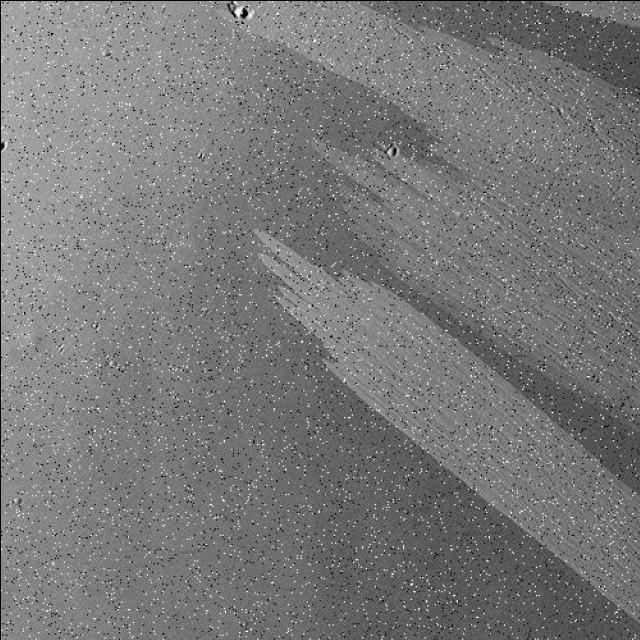crater: (215, 0, 262, 32), (371, 137, 403, 164), (82, 314, 109, 336), (5, 492, 32, 511), (78, 0, 106, 17), (626, 58, 640, 84), (630, 595, 640, 617), (0, 134, 10, 154), (571, 0, 594, 8), (520, 0, 538, 9), (430, 0, 448, 9), (626, 0, 640, 10), (596, 0, 613, 6), (631, 0, 640, 4)
